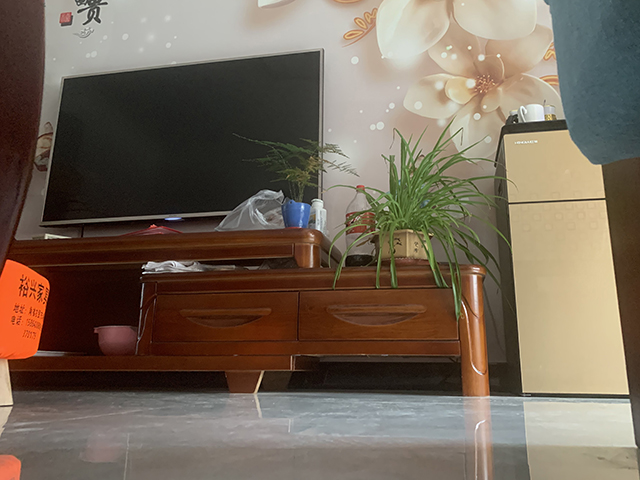cabinet: (6, 227, 493, 398), (492, 119, 631, 399)
stool: (1, 259, 52, 409)
